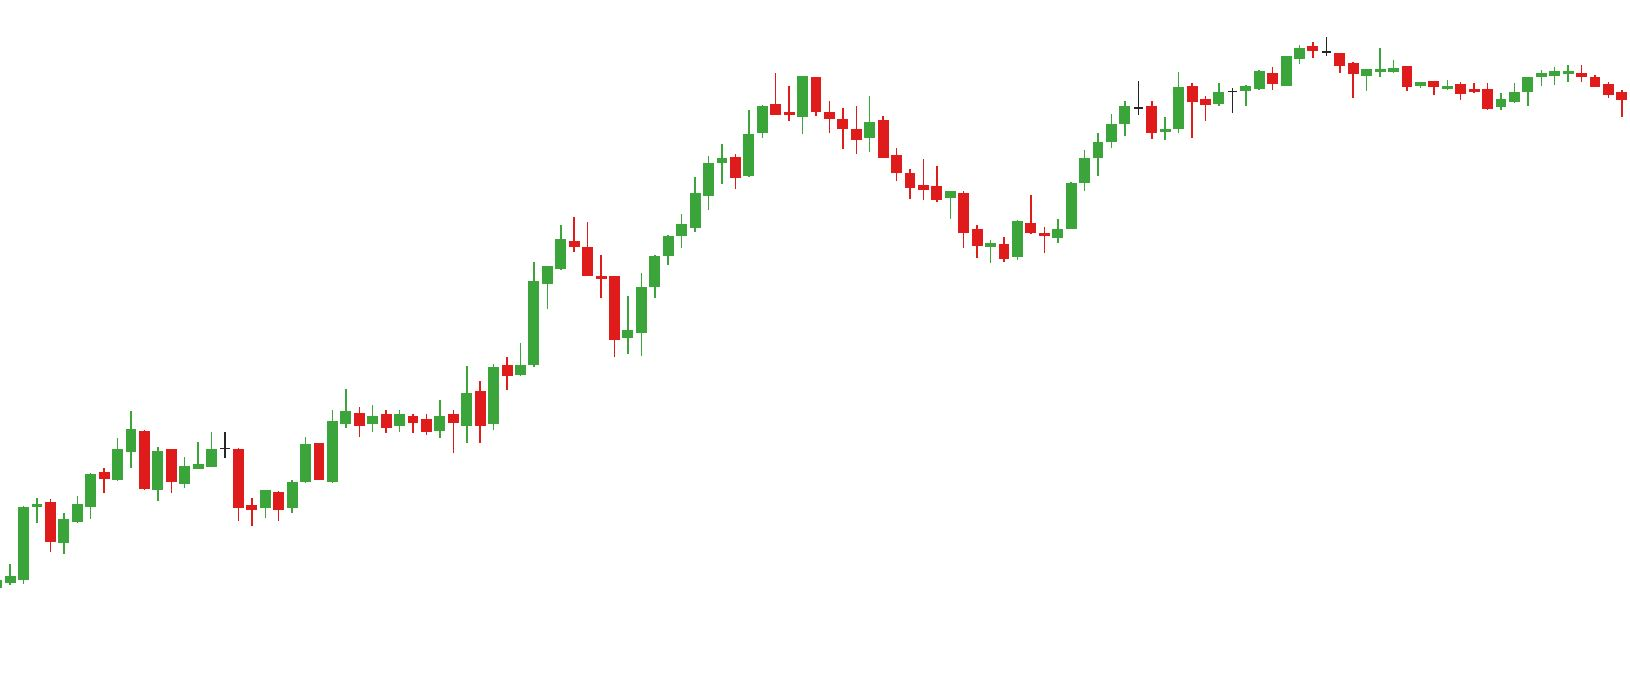buy: (136, 455, 275, 528)
